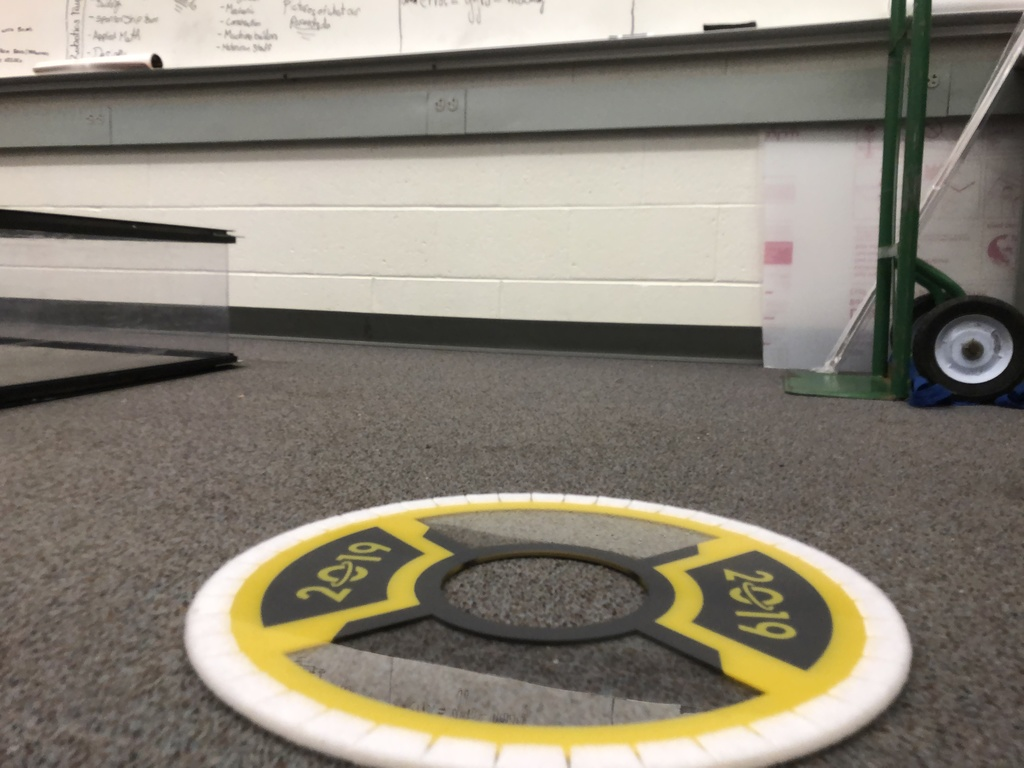hatch_panel: (177, 477, 918, 768)
